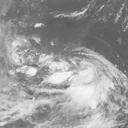cyclone: (46, 47, 112, 110)
